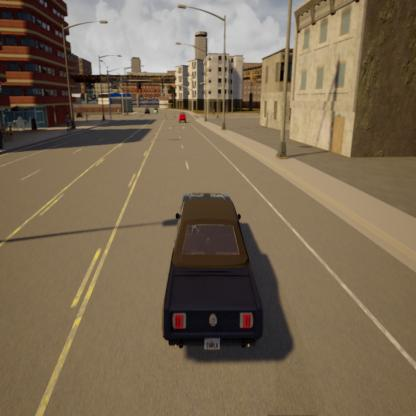Cars: (159, 189, 266, 357), (177, 110, 188, 129)
